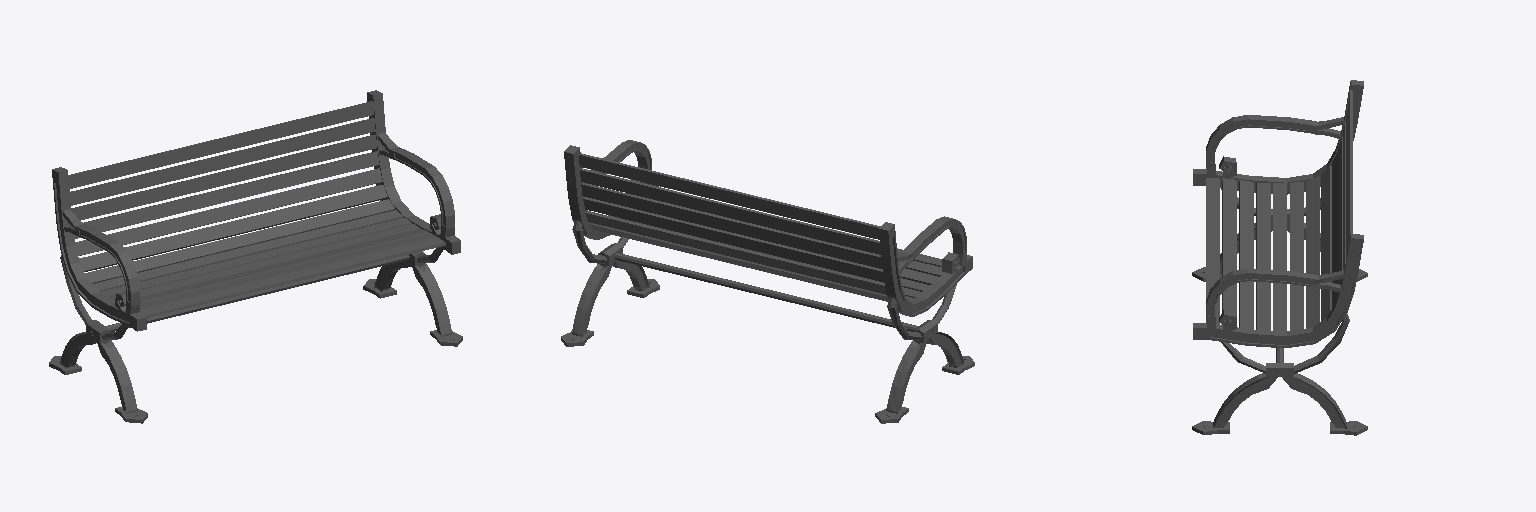
File: Bench.obj
3 views of the same model, side by side, from view 1: azimuth 30°, elevation 25°; view 2: azimuth 150°, elevation 25°; view 3: azimuth 270°, elevation 25° (orthographic).
Visible parts, largest first — view 1: LoD_1; view 2: LoD_1; view 3: LoD_1.
Boxes of the visible parts, x1,y1,x2,y2 form: LoD_1: [49, 90, 462, 423]; LoD_1: [561, 140, 974, 423]; LoD_1: [1192, 80, 1367, 435].
Bounding box in the file's own units: 12.16 × 6.69 × 5.48.